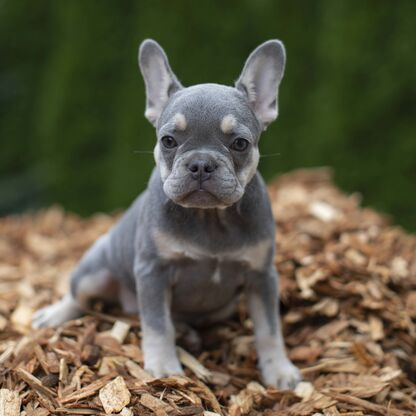bulldog: (63, 33, 327, 404)
